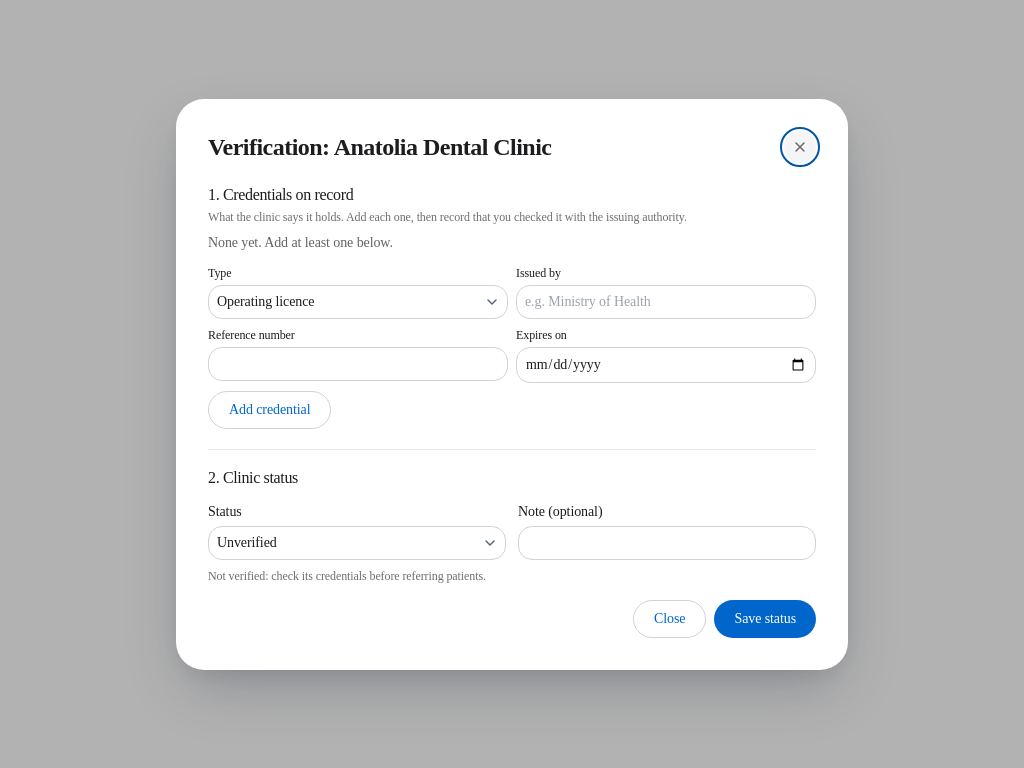
it: Clinic verification and credentials › explains what is missing when Verified is chosen without a checked credential, and shows the backend's refusal
Check: the text "None yet. Add at least one below." is shown, box [208,234,393,250]
Select "Verified" in the dropdown named "Verification status" at (357, 542), box [208,526,506,560]
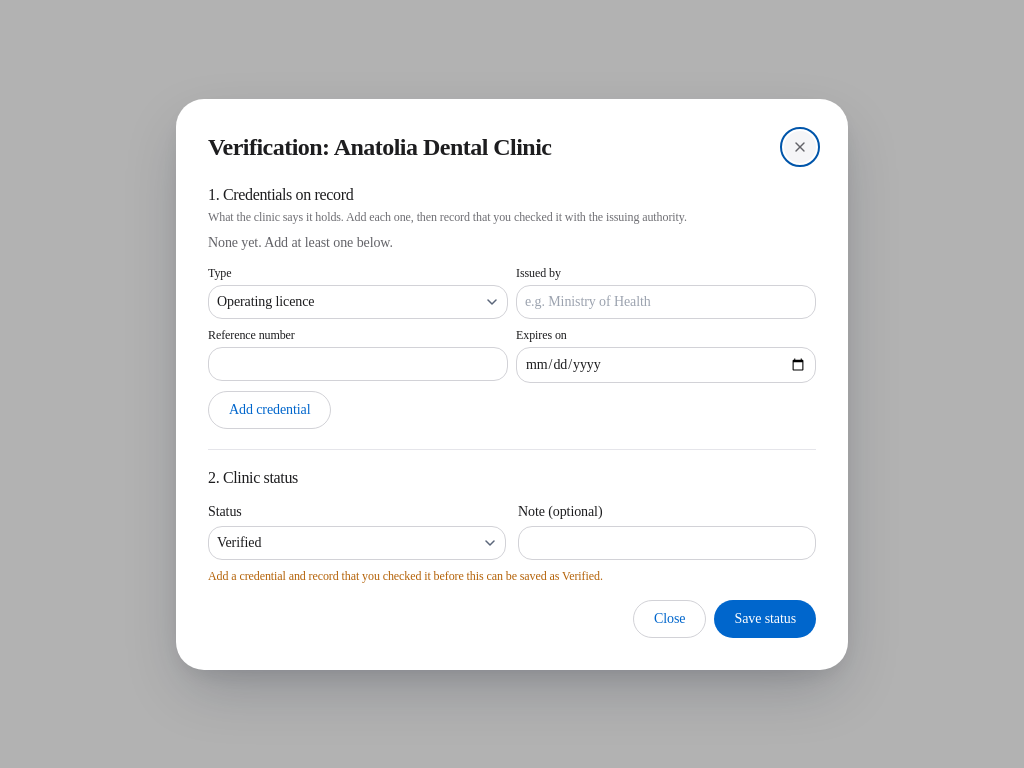
Check: the text "Add a credential and record that you checked it" is shown, box [208,568,603,582]
Click the button "Save status".
click(765, 618)  # box [714,600,816,638]
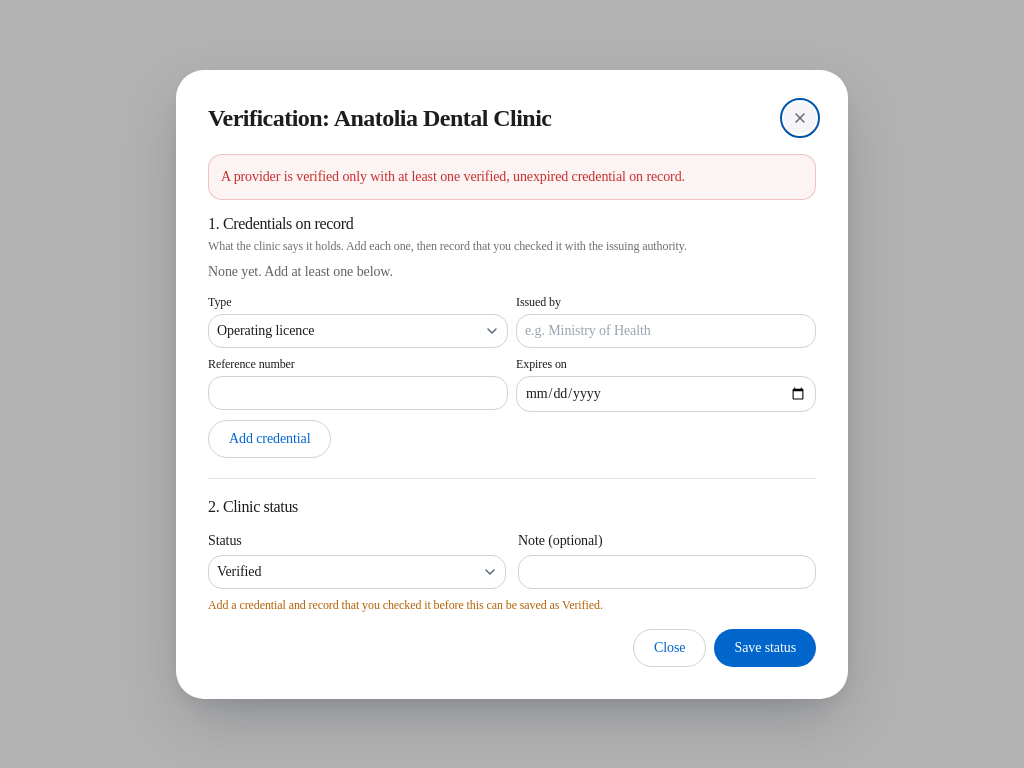
Check: the message shows "verified only with at least one verified", box [221,168,685,184]
